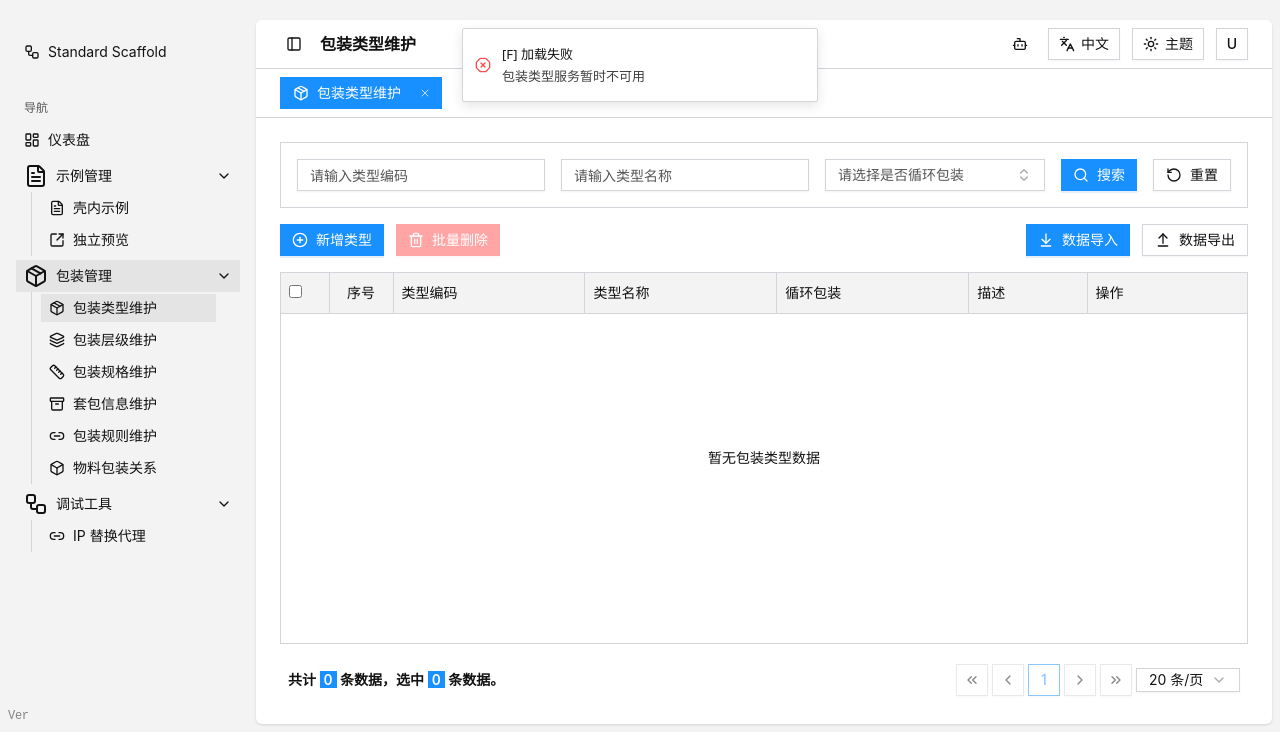
PackagingTypePage › re-fetches packaging types when submitting the same filters after an error
The width and height of the screenshot is (1280, 732).
expect the text "[F] 加载失败" is shown: met, box [502,45,573,63]
Click the button "搜索".
click(1099, 175)  # box [1061,159,1137,191]
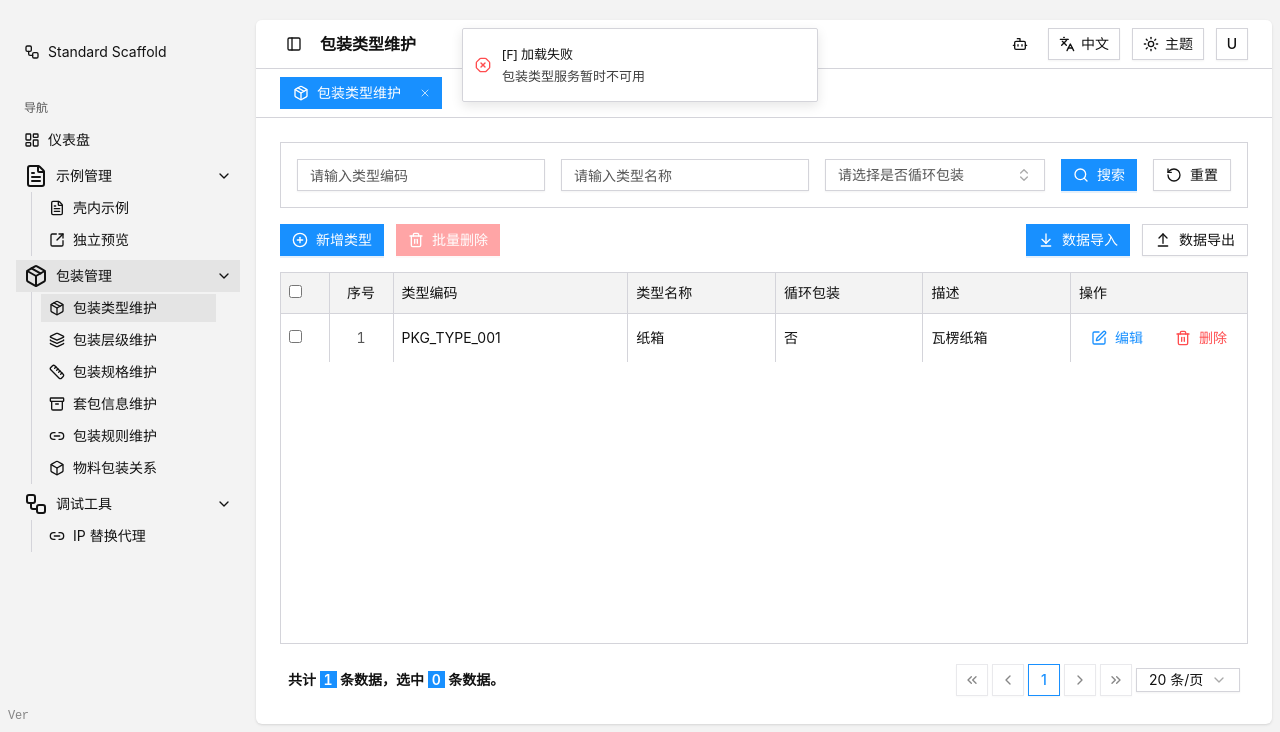
expect the text "PKG_TYPE_001" is shown: met, box [393,313,628,362]
